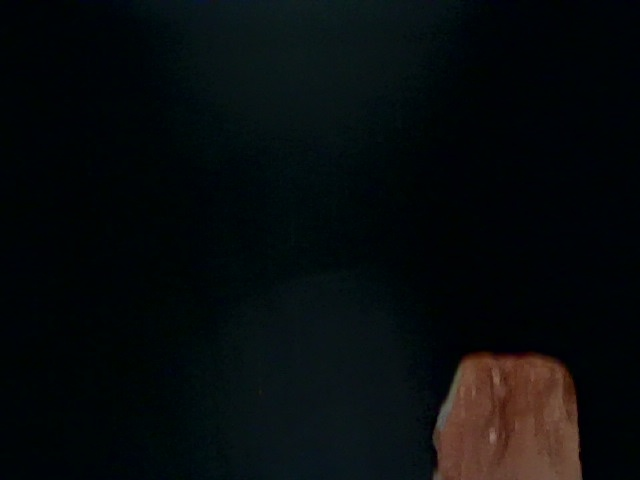KHSLJ: (115, 369, 315, 480)
